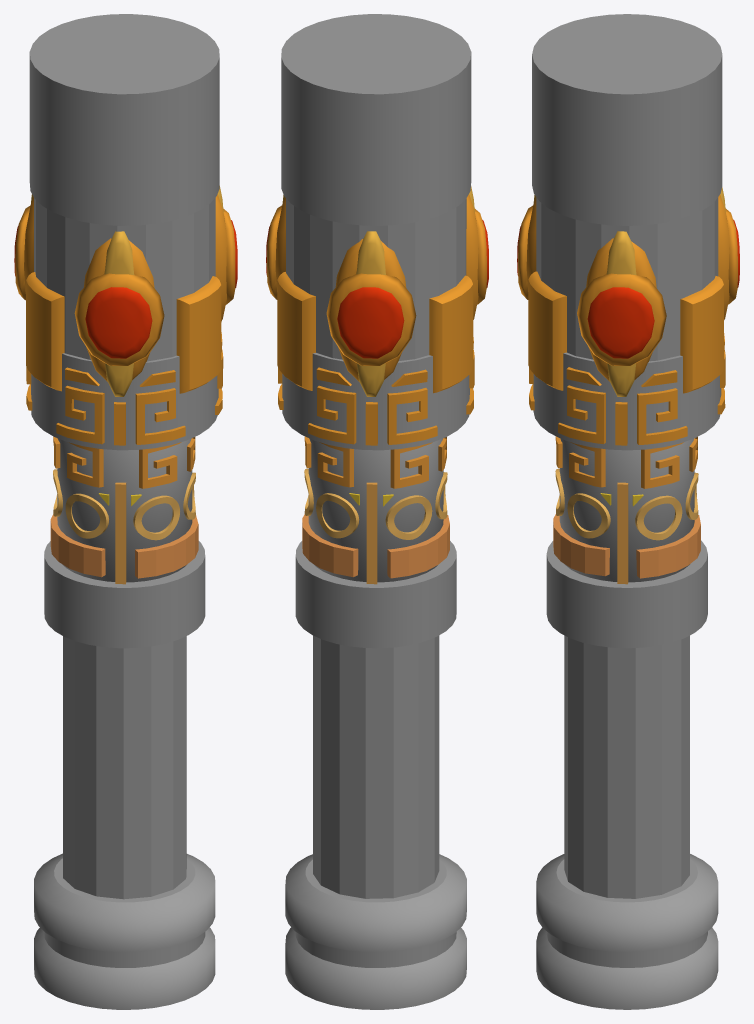
File: pillar.fbx
3 renders of one model, left to right at view 1: azimuth 30°, elevation 25°; view 2: azimuth 150°, elevation 25°; view 3: azimuth 270°, elevation 25°, orthographic.
Visible parts, largest first — view 1: Cylinder.007, Cylinder, Cylinder.021, Cylinder.002, Cylinder.003, Cylinder.001, Cylinder.006, Cylinder.005, Cube.003, Plane.005, Plane, Cylinder.017 (+13 smaller); view 2: Cylinder.007, Cylinder, Cylinder.021, Cylinder.002, Cylinder.003, Cylinder.001, Cylinder.006, Cylinder.005, Cube.001, Plane.004, Plane, Cylinder.013 (+13 smaller); view 3: Cylinder.007, Cylinder, Cylinder.021, Cylinder.002, Cylinder.003, Cylinder.001, Cylinder.006, Cylinder.005, Cube.016, Plane.003, Plane, Cylinder.010 (+13 smaller).
Part boxes in pixels (left/top/right/bottom): Cylinder.007: left=29, top=14, right=219, bottom=225; Cylinder: left=63, top=636, right=186, bottom=899; Cylinder.021: left=34, top=198, right=215, bottom=361; Cylinder.002: left=44, top=541, right=205, bottom=648; Cylinder.003: left=34, top=853, right=215, bottom=952; Cylinder.001: left=57, top=438, right=192, bottom=582; Cylinder.006: left=31, top=353, right=218, bottom=450; Cylinder.005: left=34, top=927, right=215, bottom=1009; Cube.003: left=56, top=367, right=185, bottom=445; Plane.005: left=176, top=276, right=221, bottom=393; Plane: left=50, top=514, right=198, bottom=578; Cylinder.017: left=85, top=287, right=152, bottom=358; Cylinder.007: left=281, top=14, right=471, bottom=225; Cylinder: left=313, top=635, right=439, bottom=898; Cylinder.021: left=286, top=198, right=466, bottom=360; Cylinder.002: left=295, top=541, right=456, bottom=648; Cylinder.003: left=285, top=854, right=466, bottom=952; Cylinder.001: left=308, top=438, right=443, bottom=582; Cylinder.006: left=282, top=353, right=469, bottom=450; Cylinder.005: left=285, top=927, right=466, bottom=1009; Cube.001: left=308, top=367, right=437, bottom=445; Plane.004: left=429, top=275, right=473, bottom=393; Plane: left=302, top=514, right=449, bottom=578; Cylinder.013: left=337, top=287, right=404, bottom=358; Cylinder.007: left=532, top=14, right=722, bottom=225; Cylinder: left=564, top=635, right=689, bottom=898; Cylinder.021: left=536, top=197, right=718, bottom=361; Cylinder.002: left=546, top=540, right=707, bottom=648; Cylinder.003: left=536, top=854, right=718, bottom=952; Cylinder.001: left=559, top=439, right=694, bottom=582; Cylinder.006: left=533, top=352, right=721, bottom=450; Cylinder.005: left=536, top=927, right=718, bottom=1009; Cube.016: left=558, top=367, right=687, bottom=445; Plane.003: left=680, top=276, right=723, bottom=393; Plane: left=553, top=514, right=700, bottom=578; Cylinder.010: left=587, top=287, right=654, bottom=358.
Size of the model in its own units: 128 by 587 by 129.
